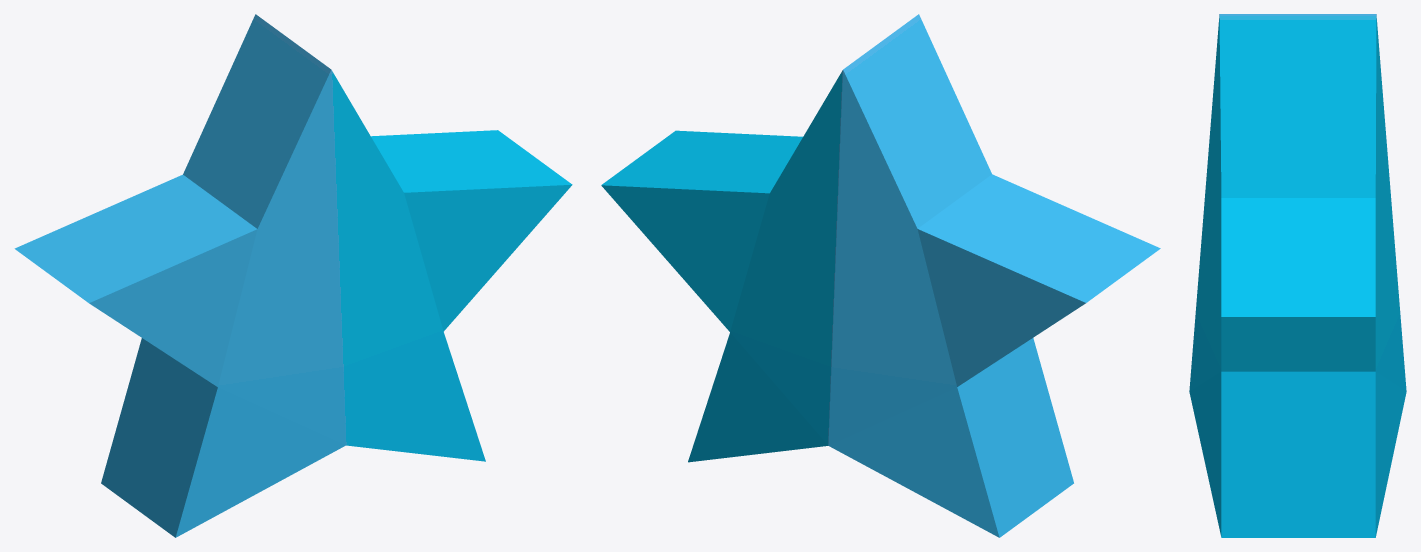
File: Star.fbx
The picture shows the model from 3 angles, left to right: view 1: azimuth 30°, elevation 25°; view 2: azimuth 150°, elevation 25°; view 3: azimuth 270°, elevation 25°; orthographic projection. The views are drawn at different scales.
Visible parts, largest first — view 1: Star; view 2: Star; view 3: Star.
Boxes of the visible parts, x1,y1,x2,y2 form: Star: (14,14,572,537); Star: (601,14,1160,537); Star: (1189,14,1406,537).
Size of the model in its own units: 0.8279 by 0.7037 by 0.311.
